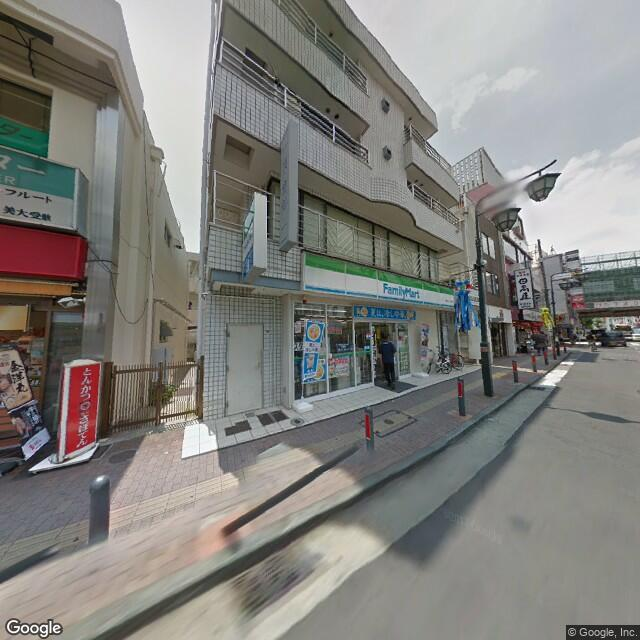family_mart: (304, 253, 456, 311), (382, 280, 422, 301)
